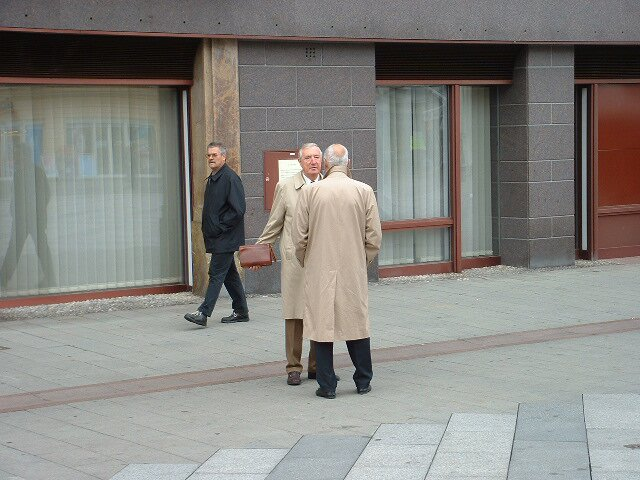person: (303, 143, 392, 396), (253, 136, 324, 388), (186, 140, 256, 331)
